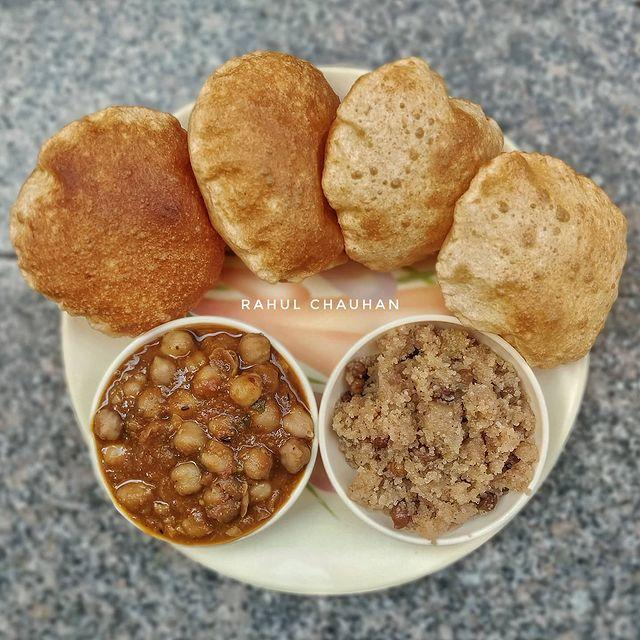Chole: (94, 319, 296, 553)
